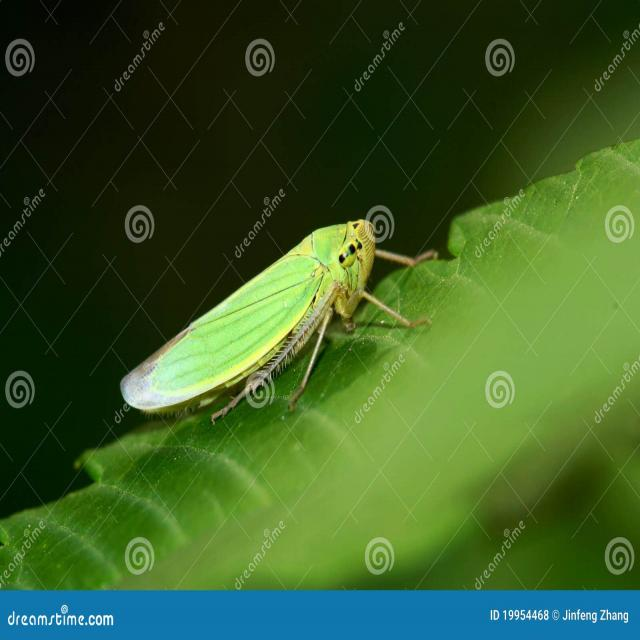Yechan: (117, 206, 392, 434)
